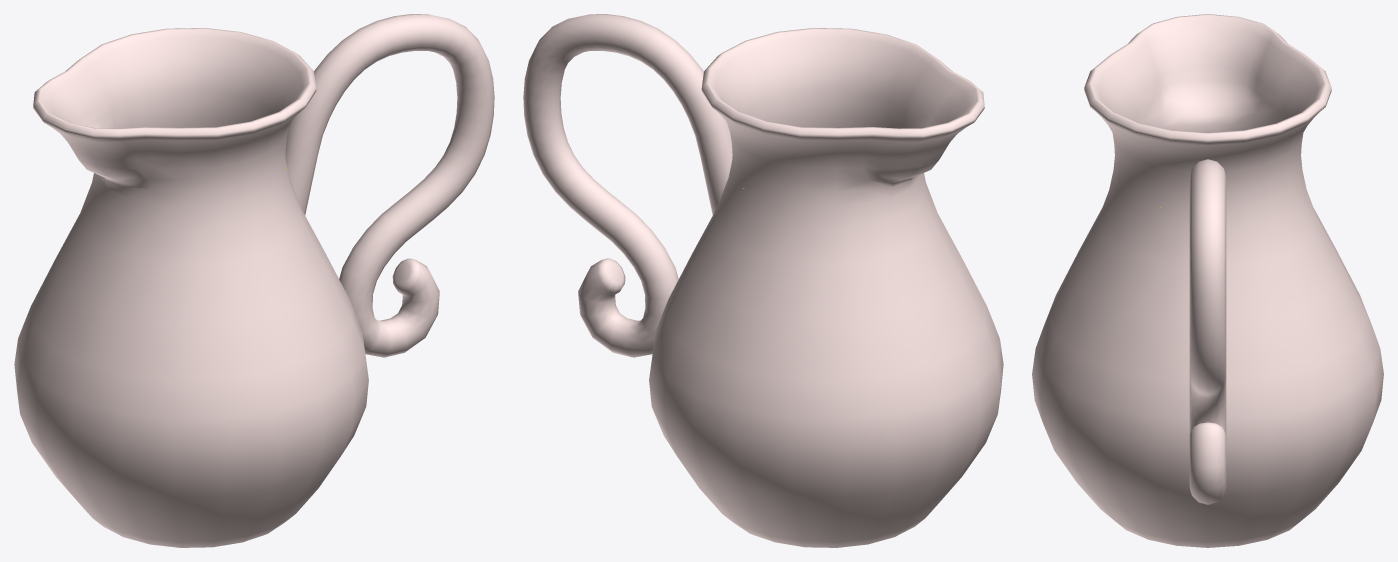
Rendered from Town_18_Decanter_Limonade_1.glb.
3 views of the same model, side by side, from view 1: azimuth 30°, elevation 25°; view 2: azimuth 150°, elevation 25°; view 3: azimuth 270°, elevation 25° (orthographic).
Visible parts, largest first — view 1: Town_18_Decanter_Limonade_1; view 2: Town_18_Decanter_Limonade_1; view 3: Town_18_Decanter_Limonade_1.
Boxes of the visible parts, x1,y1,x2,y2 form: Town_18_Decanter_Limonade_1: (14,14,494,547); Town_18_Decanter_Limonade_1: (523,14,1003,547); Town_18_Decanter_Limonade_1: (1032,14,1383,547).
Bounding box in the file's own units: 0.3442 × 0.3184 × 0.2334.
1 material, 1 textured.
